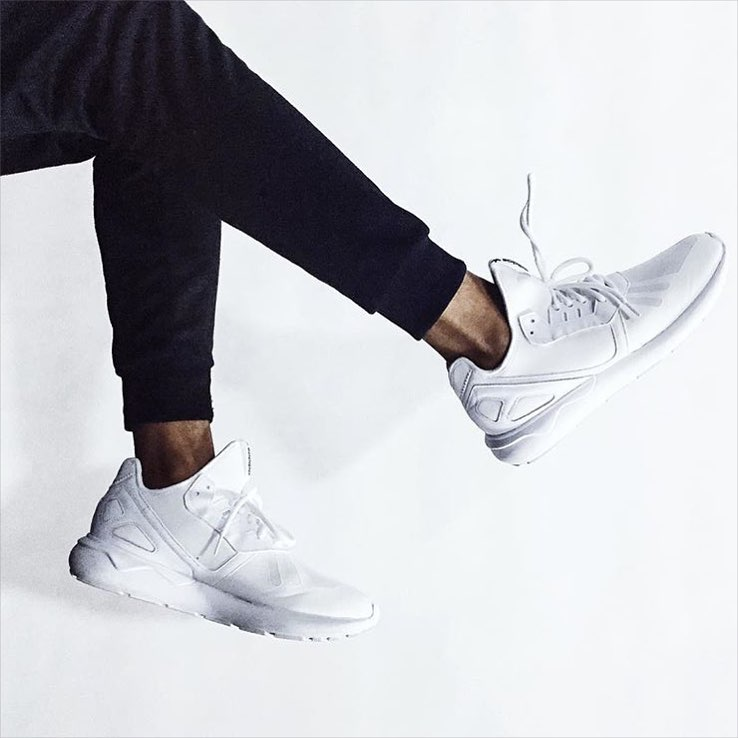sneaker: (405, 205, 738, 494), (22, 415, 403, 666)
